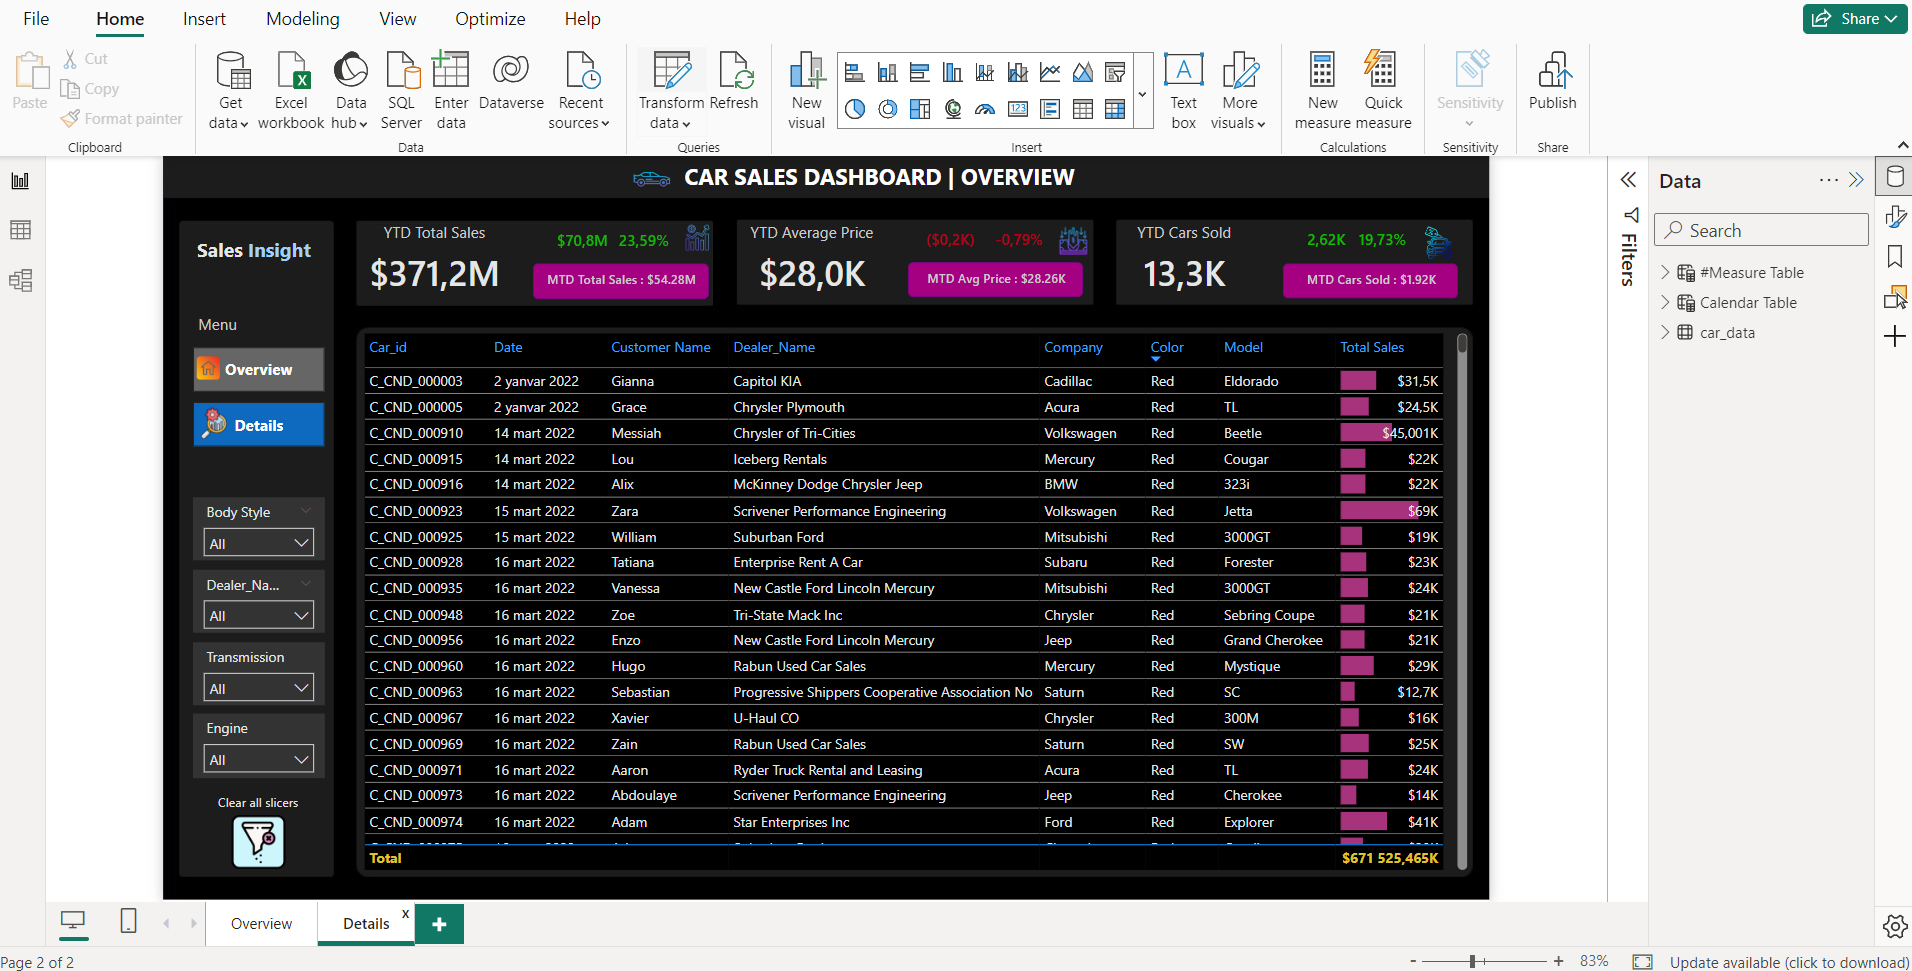

The page's visual inventory and layout, read from the dashboard file:
{"tool":"powerbi","page":{"name":"Details","canvas":[1280,720],"ordinal":1},"visuals":[{"type":"card","title":"YTD Total Sales","fields":{"Values":["#Measure Table.YTD Total Sales"]},"box":[177.8,62.6,169.2,81.1],"z":0},{"type":"card","title":"YTD Total Sales","fields":{"Values":["#Measure Table.Sales Difference"]},"box":[369.1,62.3,71.9,41.9],"z":1000},{"type":"card","title":"YTD Total Sales","fields":{"Values":["#Measure Table.YOY Sales Growth"]},"box":[430.3,62.3,67.1,41.9],"z":2000},{"type":"card","fields":{"Values":["#Measure Table.MTD KPI"]},"box":[357,103.8,169.2,34.1],"z":3000},{"type":"card","title":"YTD Average Price","fields":{"Values":["#Measure Table.YTD Average Price"]},"box":[541.9,62.6,169.2,81.1],"z":4000},{"type":"card","title":"YTD Total Sales","fields":{"Values":["#Measure Table.Average Price Difference"]},"box":[726.3,61.1,67.1,41.9],"z":5000},{"type":"card","title":"YTD Total Sales","fields":{"Values":["#Measure Table.YOY Avg Price Growth"]},"box":[793.4,62.3,64.7,40.7],"z":6000},{"type":"card","fields":{"Values":["#Measure Table.MTD Avg Price KPI"]},"box":[719.1,103.1,169,33.6],"z":7000},{"type":"card","title":"YTD Cars Sold","fields":{"Values":["#Measure Table.YTD Cars Sold"]},"box":[916.9,62.3,137.8,80.3],"z":8000},{"type":"card","title":"YTD Total Sales","fields":{"Values":["#Measure Table.Cars Sold Difference"]},"box":[1091.8,61.1,62.3,41.9],"z":9000},{"type":"card","title":"YTD Total Sales","fields":{"Values":["#Measure Table.YOY Cars Sold Growth"]},"box":[1144.6,61.1,64.7,41.9],"z":10000},{"type":"card","fields":{"Values":["#Measure Table.MTD Cars Sold KPI"]},"box":[1081,104.3,169,33.6],"z":11000},{"type":"textbox","box":[497.5,0,398.8,45],"z":12000},{"type":"slicer","fields":{"Values":["car_data.Body Style"]},"box":[28.8,329.6,127,61.1],"z":13000},{"type":"slicer","fields":{"Values":["car_data.Dealer_Name"]},"box":[28.8,399.1,127,61.1],"z":14000},{"type":"slicer","fields":{"Values":["car_data.Transmission"]},"box":[28.8,468.6,127,61.1],"z":15000},{"type":"slicer","fields":{"Values":["car_data.Engine"]},"box":[28.8,538.1,127,62.3],"z":16000},{"type":"pageNavigator","box":[28.6,184.5,127.3,97.6],"z":17000},{"type":"image","box":[27.4,184.5,32.1,39.3],"z":18000},{"type":"image","box":[407.5,0,127.5,45],"z":19000},{"type":"image","box":[28.8,233.8,40,48.8],"z":20000},{"type":"textbox","box":[27.6,71.9,128.2,47.9],"z":21000},{"type":"textbox","box":[28.8,147.4,63.5,37.2],"z":22000},{"type":"image","title":"Clear all slicers","box":[27.6,614.8,128.2,77.9],"z":23000},{"type":"image","box":[497.4,61.1,37.2,34.8],"z":24000},{"type":"image","box":[859.3,62.3,37.2,38.4],"z":25000},{"type":"image","box":[1200.9,62.3,59.9,41.9],"z":26000},{"type":"tableEx","fields":{"Values":["car_data.Car_id","car_data.Date","car_data.Customer Name","car_data.Dealer_Name","car_data.Company","car_data.Color","car_data.Model","car_data.Price ($)"]},"box":[188.2,166.6,1075.1,527.3],"z":27000}]}

Visuals, with their boxes on the page's 1280x720 design canvas (x1, y1, x2, y2). These are canvas units, not pixel positions in the 1912x971 screenshot, which may show the page scaled, cropped or inside an application window:
"YTD Total Sales" card: [178, 63, 347, 144]
"YTD Total Sales" card: [369, 62, 441, 104]
"YTD Total Sales" card: [430, 62, 497, 104]
card - #Measure Table.MTD KPI: [357, 104, 526, 138]
"YTD Average Price" card: [542, 63, 711, 144]
"YTD Total Sales" card: [726, 61, 793, 103]
"YTD Total Sales" card: [793, 62, 858, 103]
card - #Measure Table.MTD Avg Price KPI: [719, 103, 888, 137]
"YTD Cars Sold" card: [917, 62, 1055, 143]
"YTD Total Sales" card: [1092, 61, 1154, 103]
"YTD Total Sales" card: [1145, 61, 1209, 103]
card - #Measure Table.MTD Cars Sold KPI: [1081, 104, 1250, 138]
textbox: [498, 0, 896, 45]
slicer - car_data.Body Style: [29, 330, 156, 391]
slicer - car_data.Dealer_Name: [29, 399, 156, 460]
slicer - car_data.Transmission: [29, 469, 156, 530]
slicer - car_data.Engine: [29, 538, 156, 600]
pageNavigator: [29, 184, 156, 282]
image: [27, 184, 60, 224]
image: [408, 0, 535, 45]
image: [29, 234, 69, 283]
textbox: [28, 72, 156, 120]
textbox: [29, 147, 92, 185]
"Clear all slicers" image: [28, 615, 156, 693]
image: [497, 61, 535, 96]
image: [859, 62, 896, 101]
image: [1201, 62, 1261, 104]
tableEx - car_data.Car_id x car_data.Date: [188, 167, 1263, 694]
